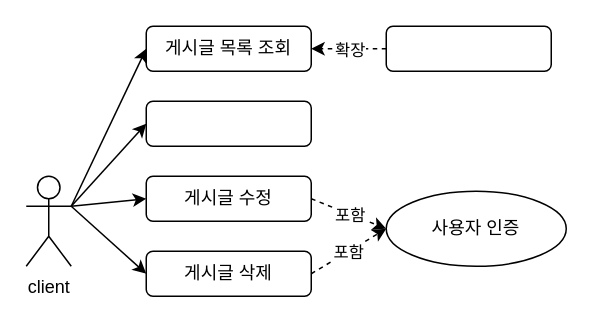
The diagram is 593 pixels wide and 324 high, and some of its shapes have lost their labels. The shapes that lost their labels are listed below. From the top down, each one's centre as x and y in pixels, then its label:
At point 468,48: "게시글 상세 조회".
At point 228,123: "게시글 작성".
